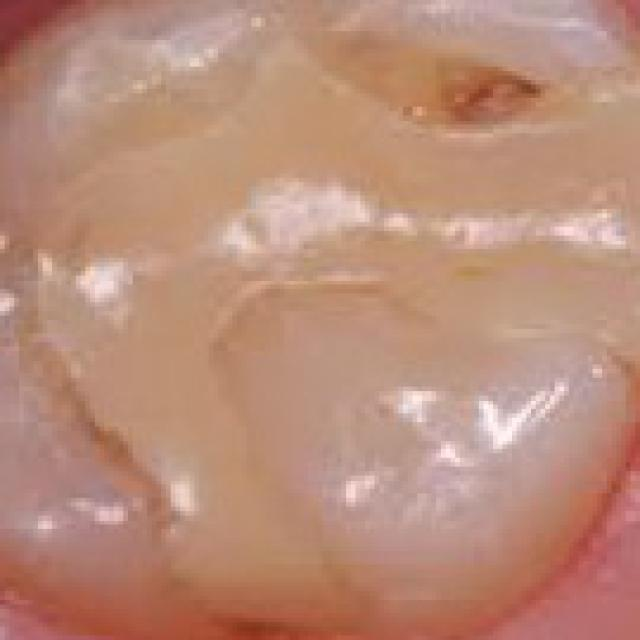Carrier: (385, 42, 558, 142)
